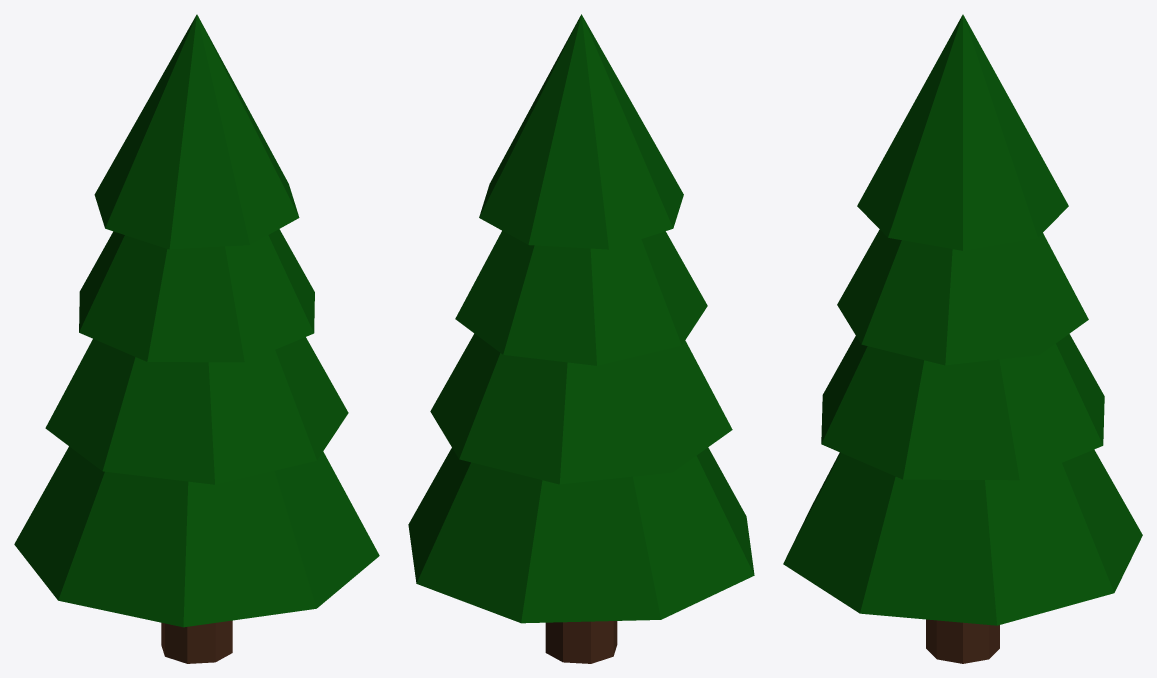
Rendered from low_poli_pineTree.glb.
The picture shows the model from 3 angles, left to right: view 1: azimuth 30°, elevation 25°; view 2: azimuth 150°, elevation 25°; view 3: azimuth 270°, elevation 25°; orthographic projection.
Visible parts, largest first — view 1: pine_tree; view 2: pine_tree; view 3: pine_tree.
Boxes of the visible parts, bbox=[...] form: pine_tree: bbox=[14, 14, 379, 663]; pine_tree: bbox=[408, 14, 754, 663]; pine_tree: bbox=[783, 14, 1142, 663].
Bounding box in the file's own units: 1.38 × 2.68 × 1.38.
